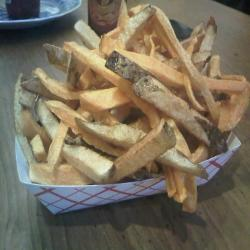fries: (21, 25, 233, 188)
